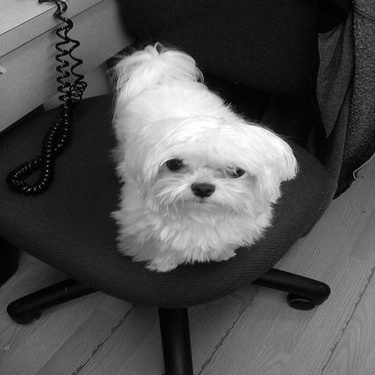dog: (93, 38, 304, 281)
